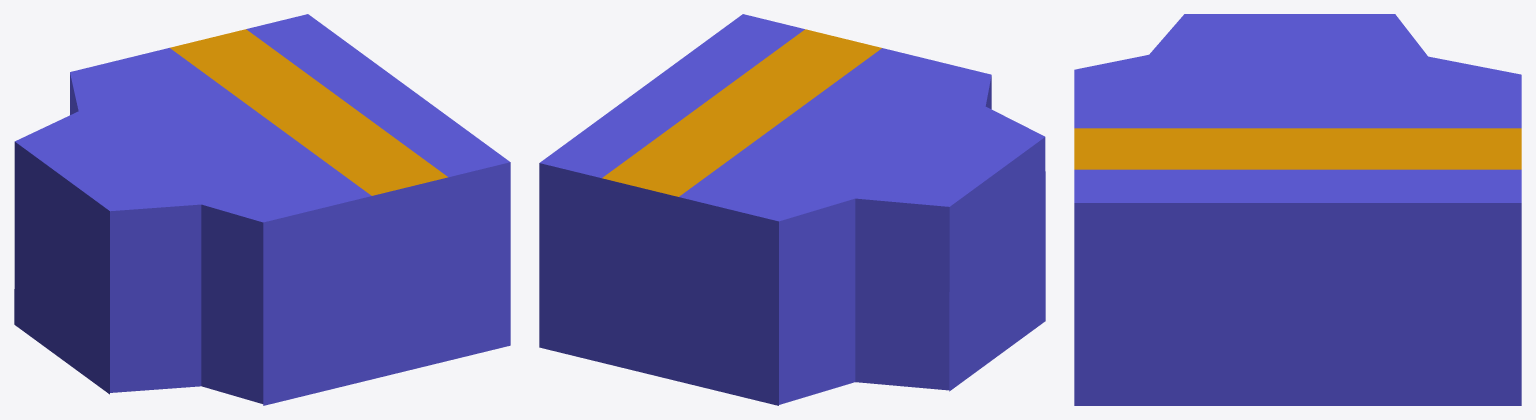
Rendered from imu.dae.
3 views of the same model, side by side, from view 1: azimuth 30°, elevation 25°; view 2: azimuth 150°, elevation 25°; view 3: azimuth 270°, elevation 25° (orthographic). The views are drawn at different scales.
Visible parts, largest first — view 1: Cube; view 2: Cube; view 3: Cube.
Boxes of the visible parts, x1=… form: Cube: x1=14, y1=14, x2=510, y2=405; Cube: x1=539, y1=14, x2=1045, y2=405; Cube: x1=1074, y1=14, x2=1521, y2=405.
Size of the model in its own units: 0.03 by 0.03 by 0.015.
